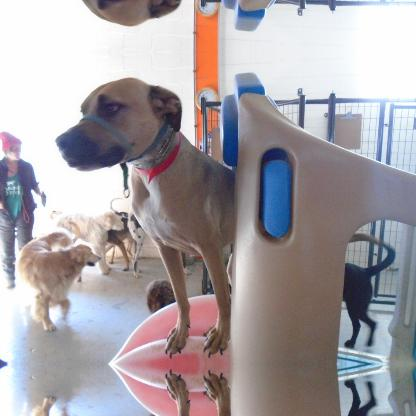Dog: (52, 75, 234, 358), (17, 240, 101, 330), (343, 232, 395, 350), (54, 211, 124, 275), (108, 196, 144, 278), (31, 229, 80, 281), (343, 378, 396, 415), (17, 397, 102, 415), (146, 280, 176, 312)
